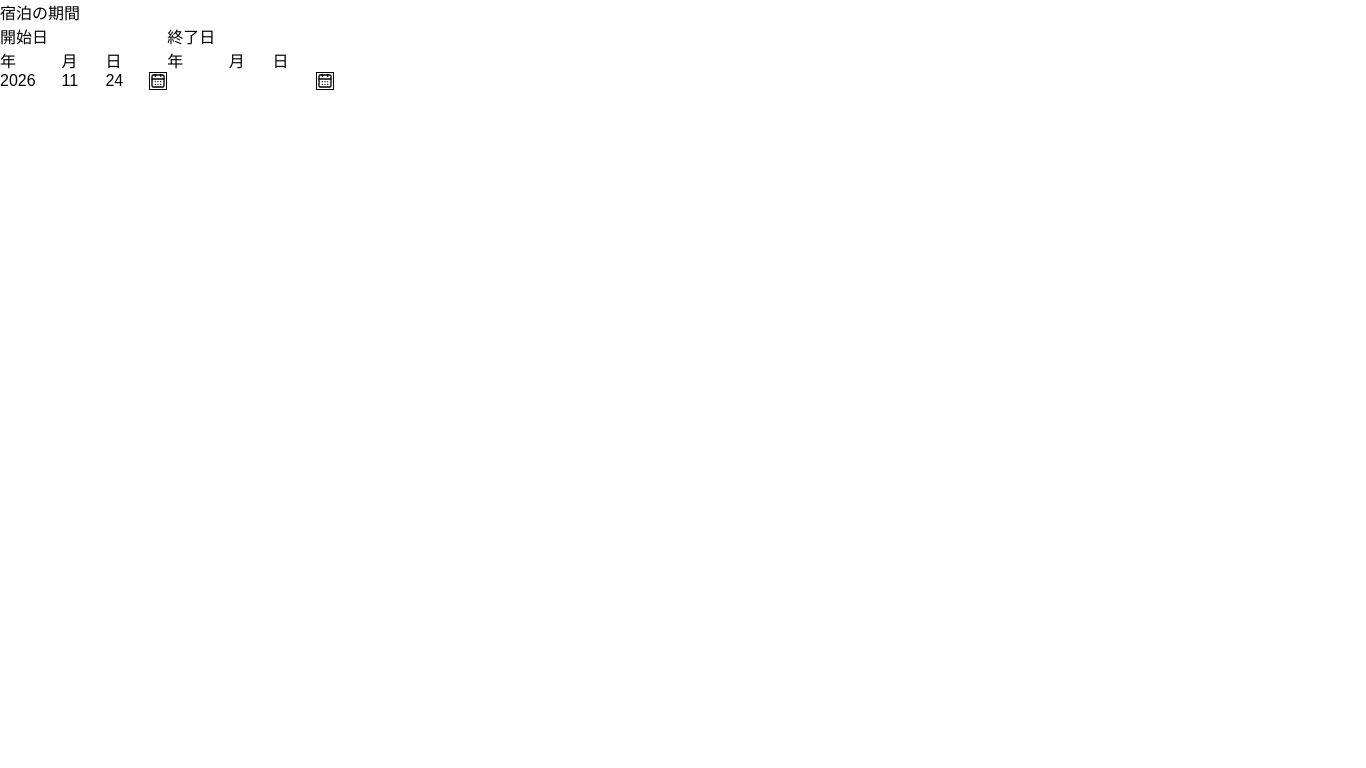
it: DateRangePicker › reports both ends and shows the range in the calendar
Click the button named "終了日をカレンダーから選ぶ". click: coordinates (325, 81)
box: [316, 72, 334, 90]
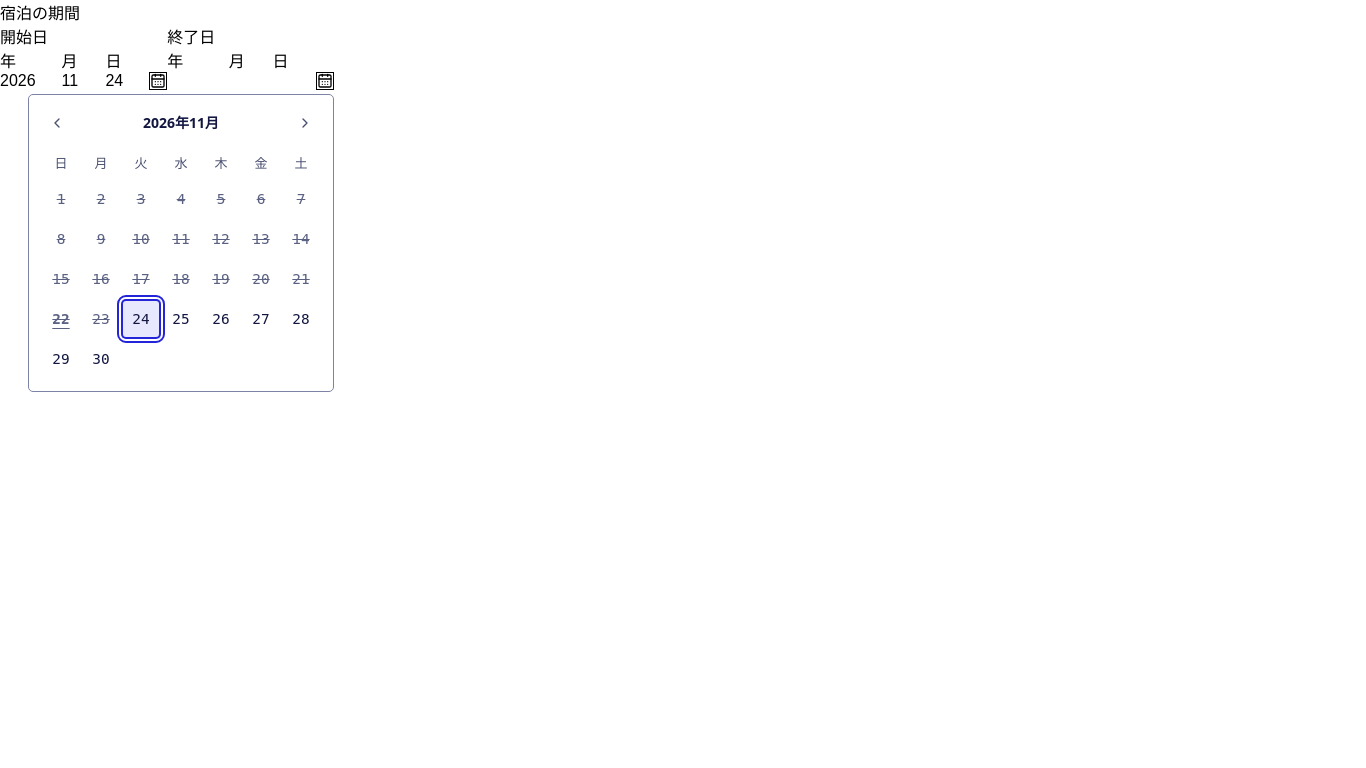
Click the button named "2026年11月27日". click: coordinates (261, 319)
box: [241, 299, 281, 339]
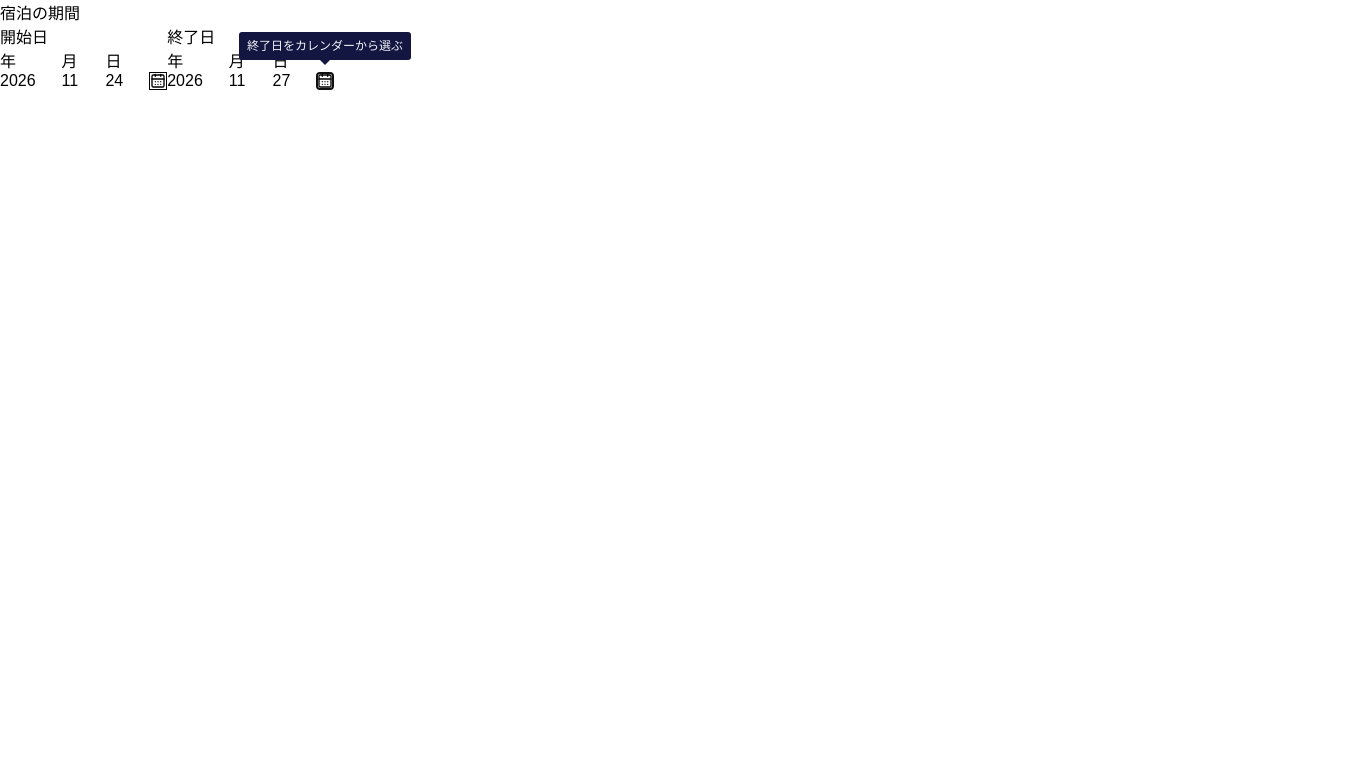
Click the button named "開始日をカレンダーから選ぶ". click: coordinates (158, 81)
box: [149, 72, 167, 90]
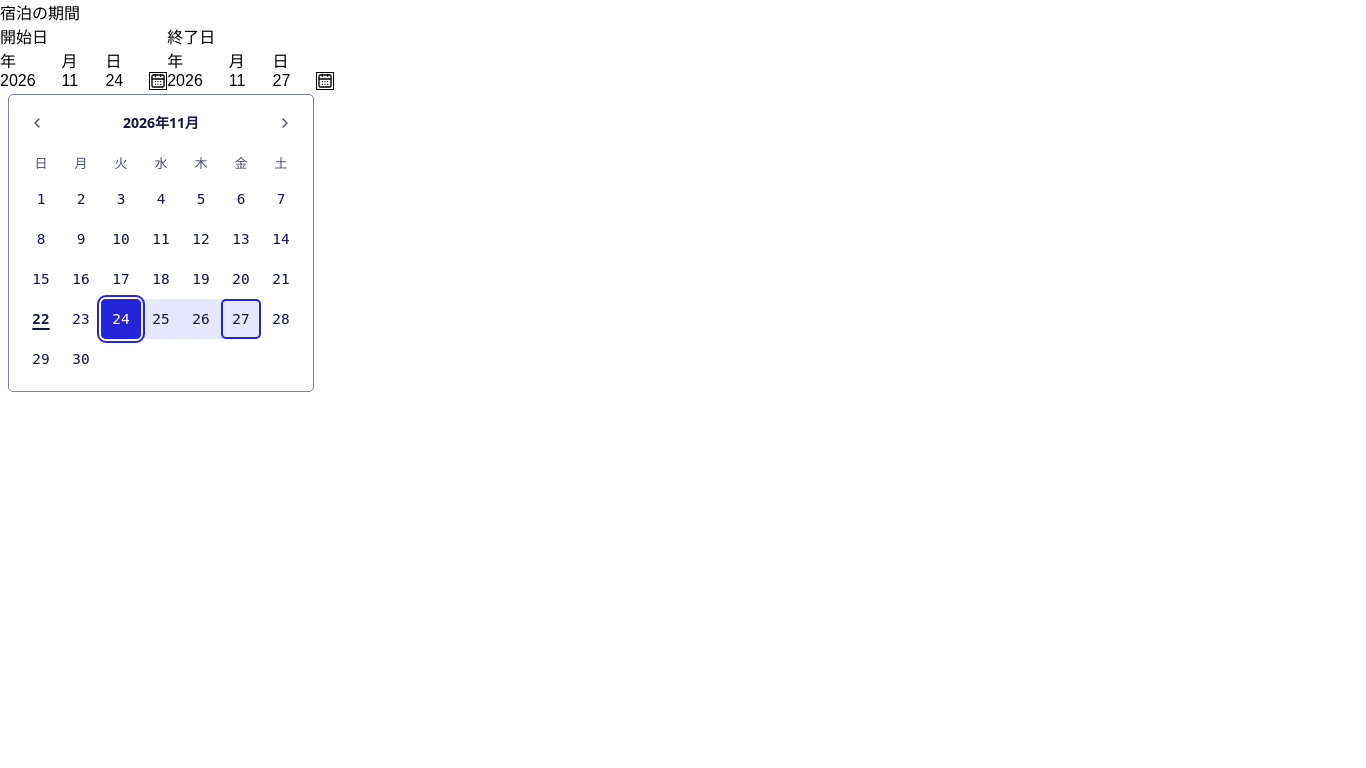
Now the button "25" is shown, box [141, 299, 181, 339]
